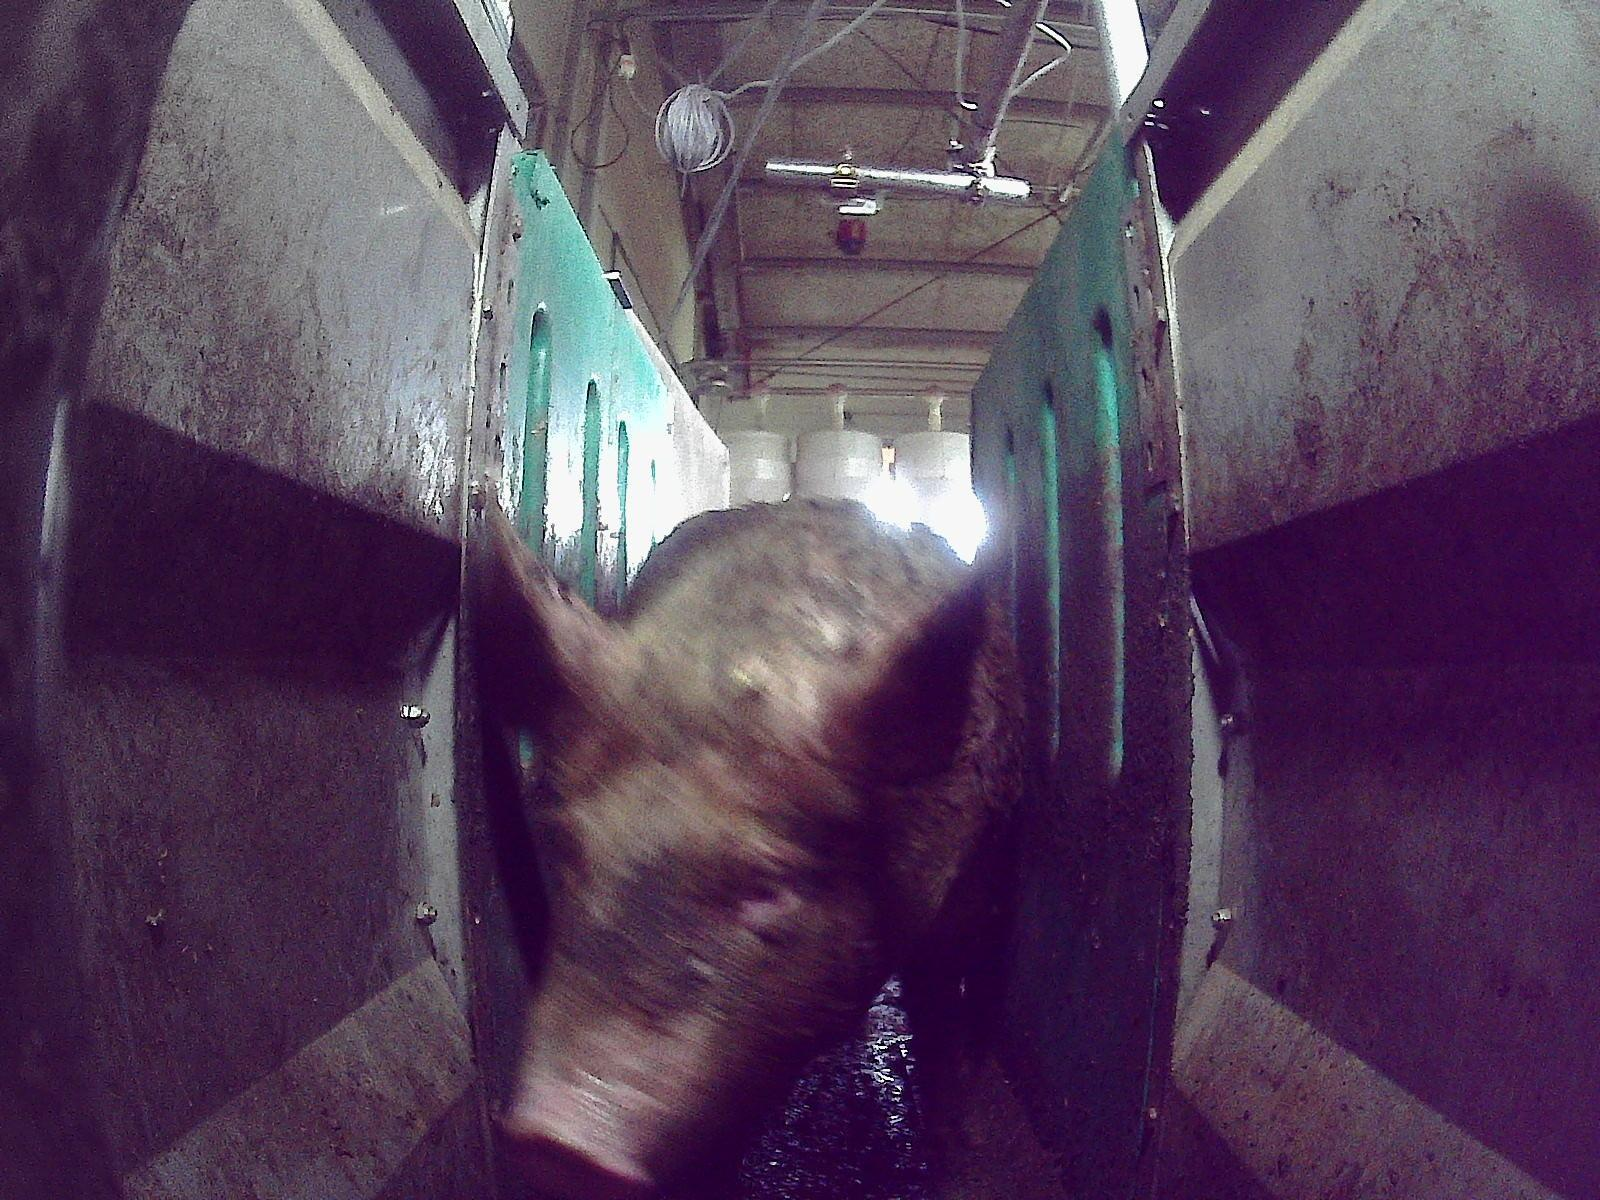Face: (499, 709, 860, 1199)
